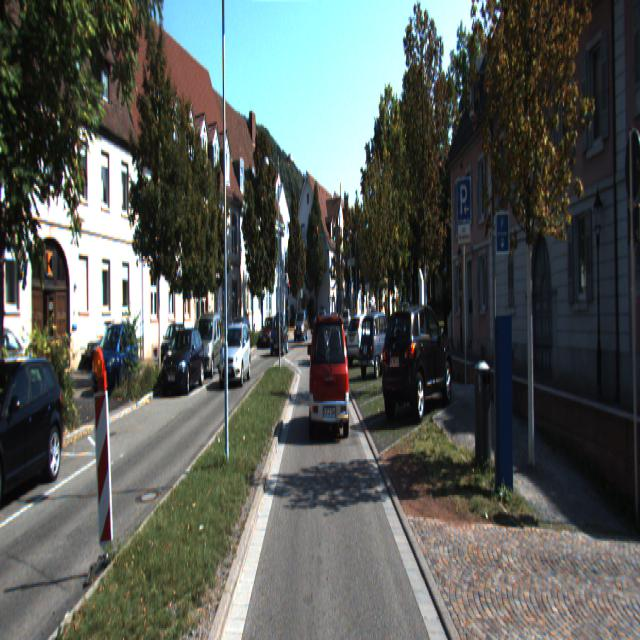Car: (0, 352, 66, 508), (380, 299, 454, 420), (310, 312, 351, 441), (90, 320, 138, 393), (160, 326, 205, 398), (358, 308, 401, 380), (86, 318, 135, 370), (218, 318, 252, 387), (191, 311, 222, 380), (346, 311, 383, 364), (226, 313, 250, 359), (270, 311, 289, 356), (259, 316, 281, 348), (294, 309, 308, 341)
